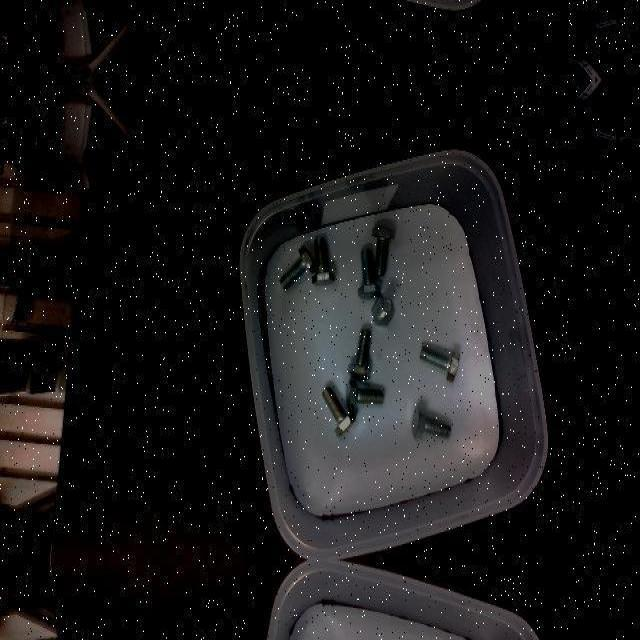screw: (321, 385, 355, 437), (279, 245, 316, 291), (419, 344, 459, 382), (411, 405, 451, 439), (345, 379, 383, 411), (371, 226, 395, 276), (347, 328, 371, 378), (358, 248, 381, 298), (312, 235, 335, 285), (371, 295, 394, 325)
